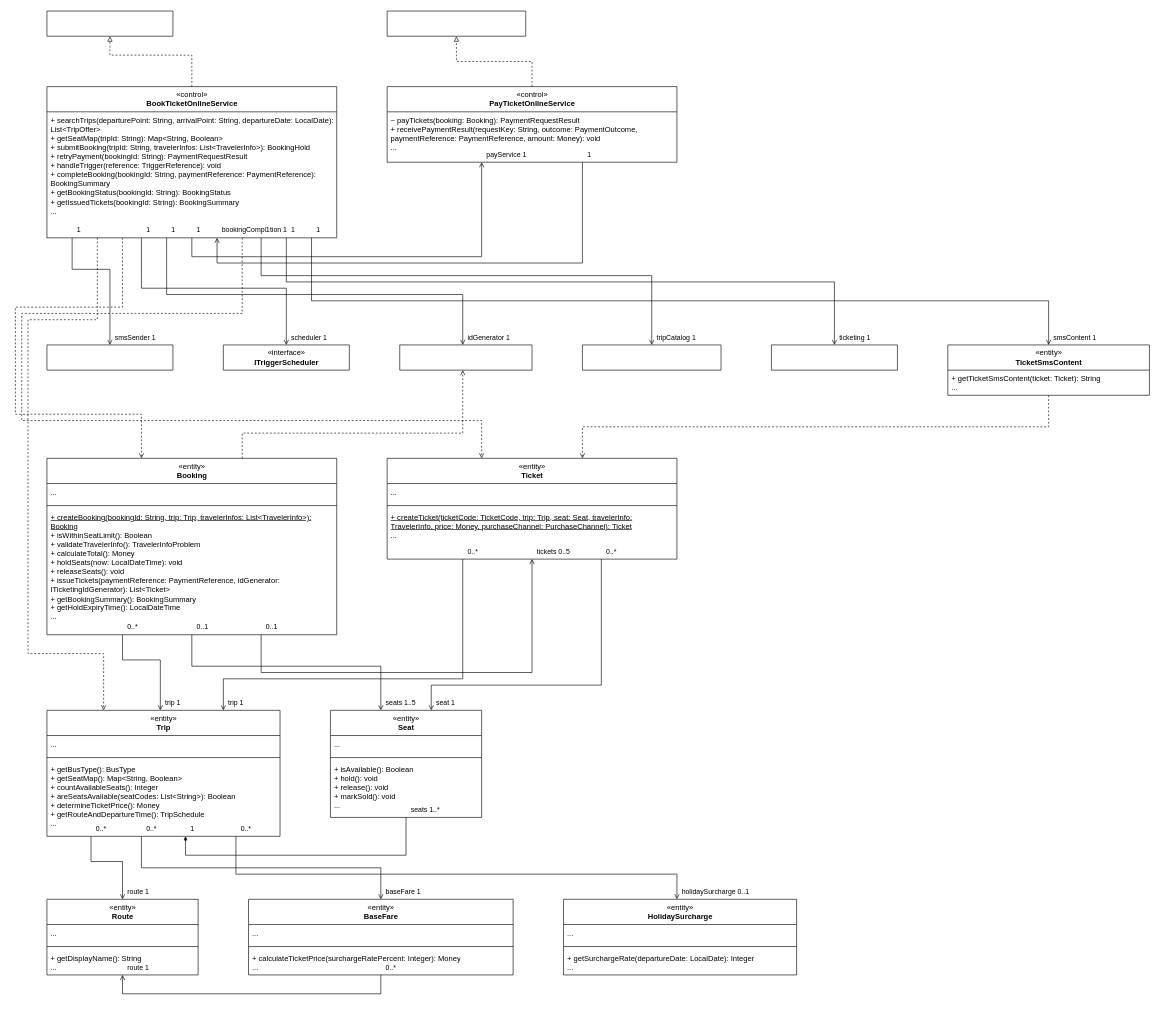
This 1160x1010 diagram has some shape labels left out. The shapes that lost their labels are listed below. From the top down, each one's centre as x and y in pixels, then its label:
At pixel 109 23: "«interface» ITriggerHandler".
At pixel 456 23: "«interface» IPaymentResultListener".
At pixel 109 357: "«interface» ISmsSender".
At pixel 465 357: "«interface» ITicketingIdGenerator".
At pixel 651 357: "«interface» ITripCatalogRepository".
At pixel 834 357: "«interface» ITicketingRepository".
